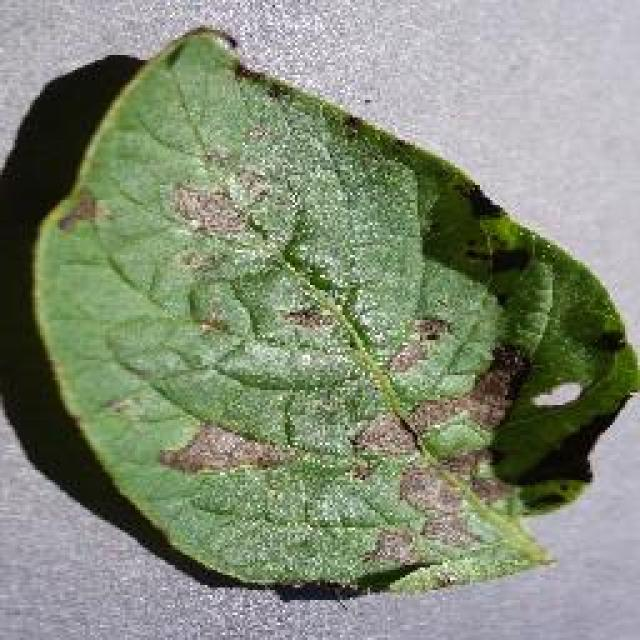early_blight: (20, 22, 638, 598)
